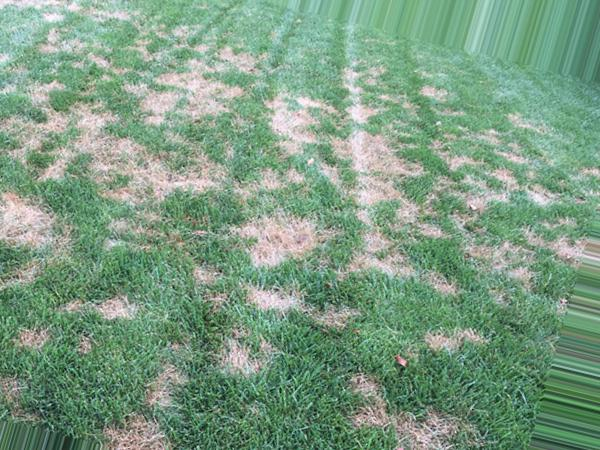patch: (266, 100, 399, 204), (31, 92, 102, 182), (146, 62, 228, 124), (354, 385, 446, 435), (117, 151, 215, 187), (3, 192, 56, 257), (240, 288, 281, 369), (355, 218, 403, 274), (252, 221, 309, 260), (118, 420, 155, 446)
